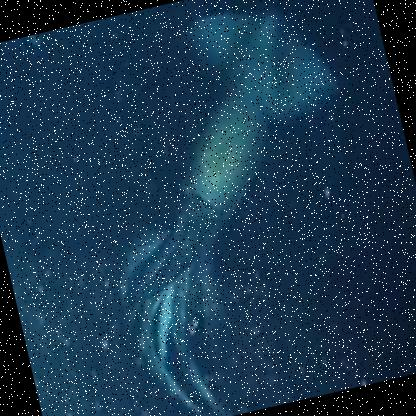colossal_squid: (50, 0, 403, 411)
